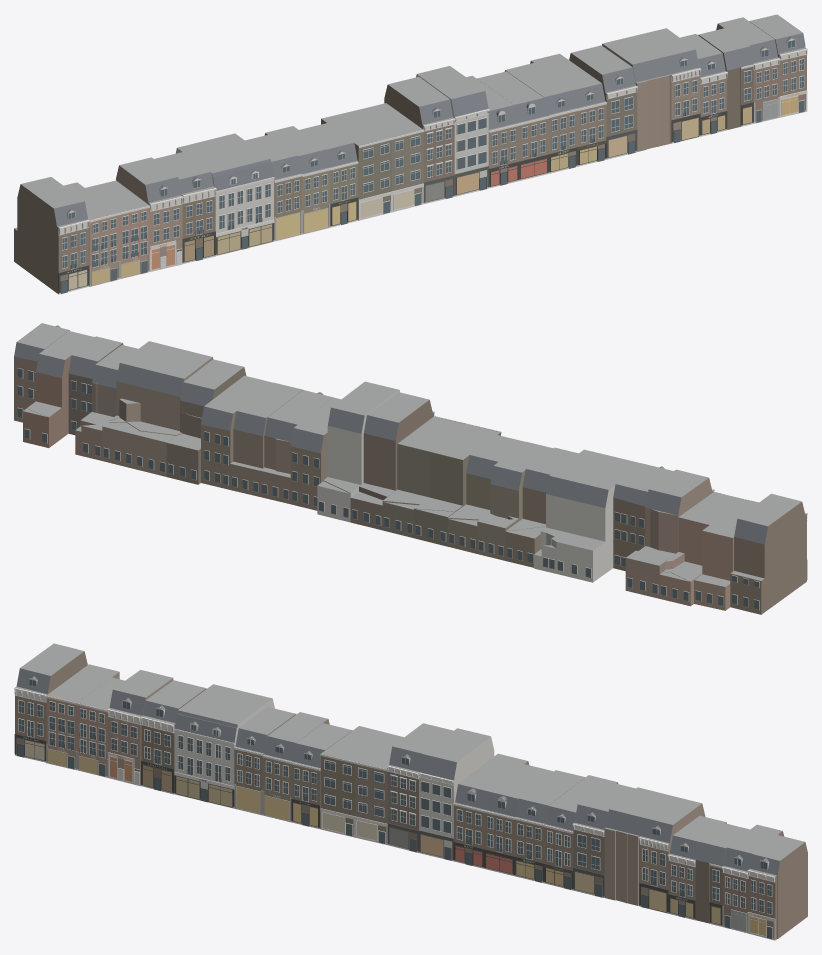
The model's file is chunk-face-hooft-30-78.glb.
The picture shows the model from 3 angles, top to bottom: view 1: azimuth 30°, elevation 25°; view 2: azimuth 150°, elevation 25°; view 3: azimuth 330°, elevation 25°; orthographic projection.
Parts seen in each view (by area): view 1: face-hooft-30-78; view 2: face-hooft-30-78; view 3: face-hooft-30-78.
Boxes of the visible parts, x1,y1,x2,y2 form: face-hooft-30-78: [14, 14, 807, 294]; face-hooft-30-78: [14, 323, 807, 614]; face-hooft-30-78: [14, 643, 807, 940].
Bounding box in the file's own units: 160 × 19.4 × 20.45.
